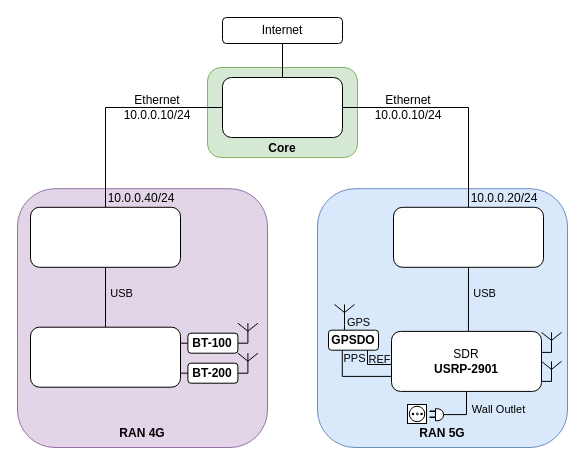
Some shapes in this 585 by 465 pixel diagram are drawn without their labels. The centre of each missing label's shape, as x and y in pixels:
"Machine 1 Open5GS" goes at (282,107).
"Machine 2 srsRAN Project/OCUDU" goes at (468,236).
"Machine 4 srsRAN 4G" goes at (105,236).
"SDR Nuand BladeRF xA4" goes at (105,356).
